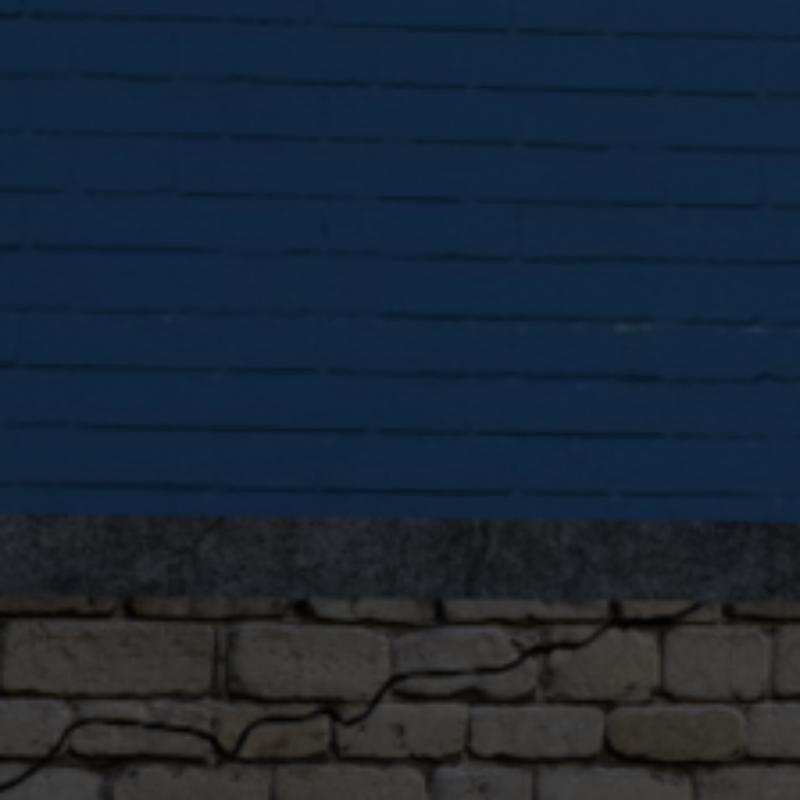pothole: (2, 602, 702, 791)
